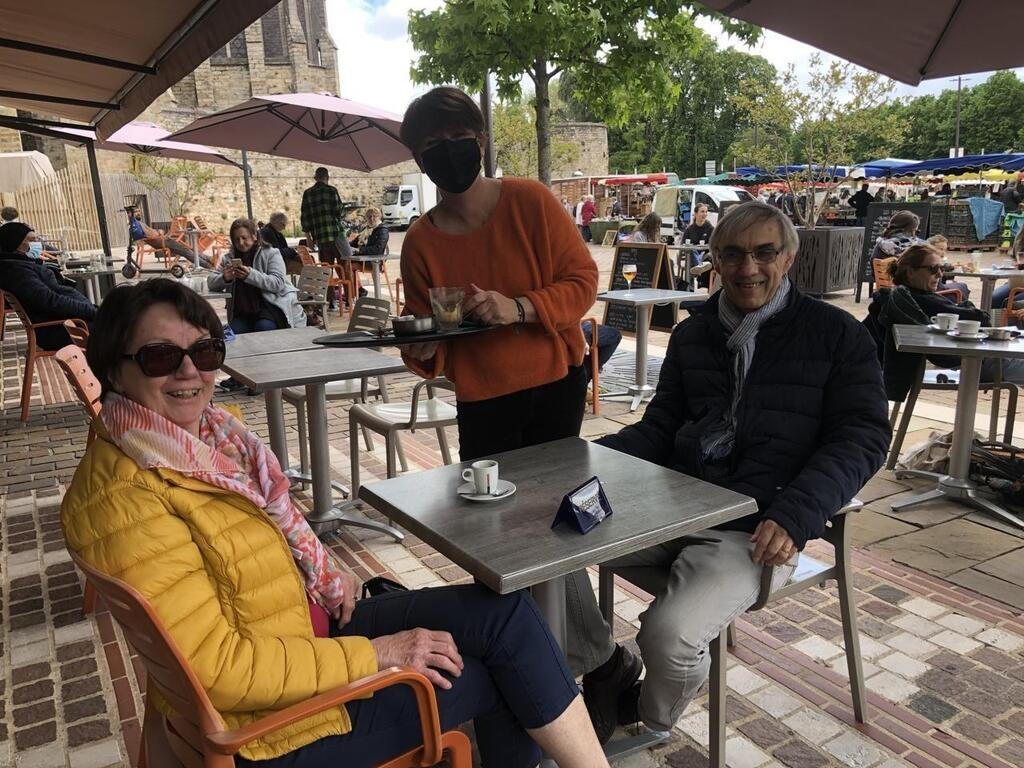with_mask: (413, 120, 477, 182)
without_mask: (144, 331, 217, 413), (723, 235, 770, 297)
